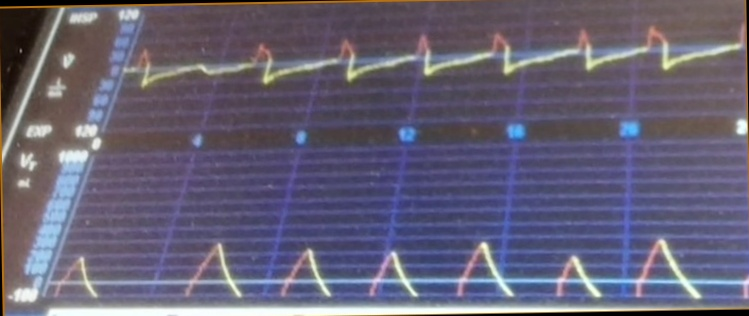Ineffective_effort Flow: (130, 21, 745, 122)
Ineffective_effort Volume: (50, 234, 720, 302)
